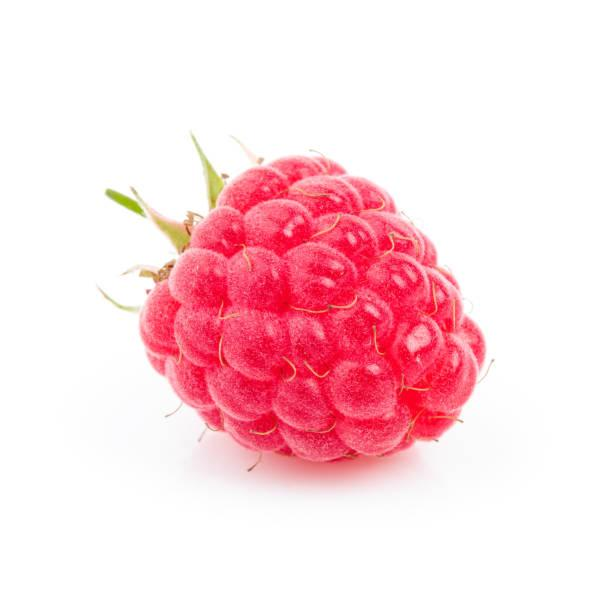peas: (108, 135, 490, 466)
